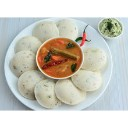idly: (55, 80, 86, 104), (36, 78, 60, 108), (19, 71, 43, 98), (11, 51, 36, 75), (32, 21, 59, 41), (83, 46, 106, 69), (75, 69, 101, 89), (57, 17, 78, 40), (16, 37, 40, 55)
